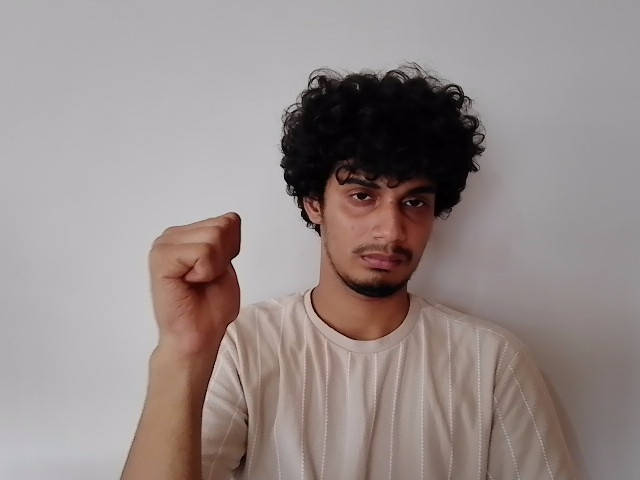how: (146, 213, 247, 330)
